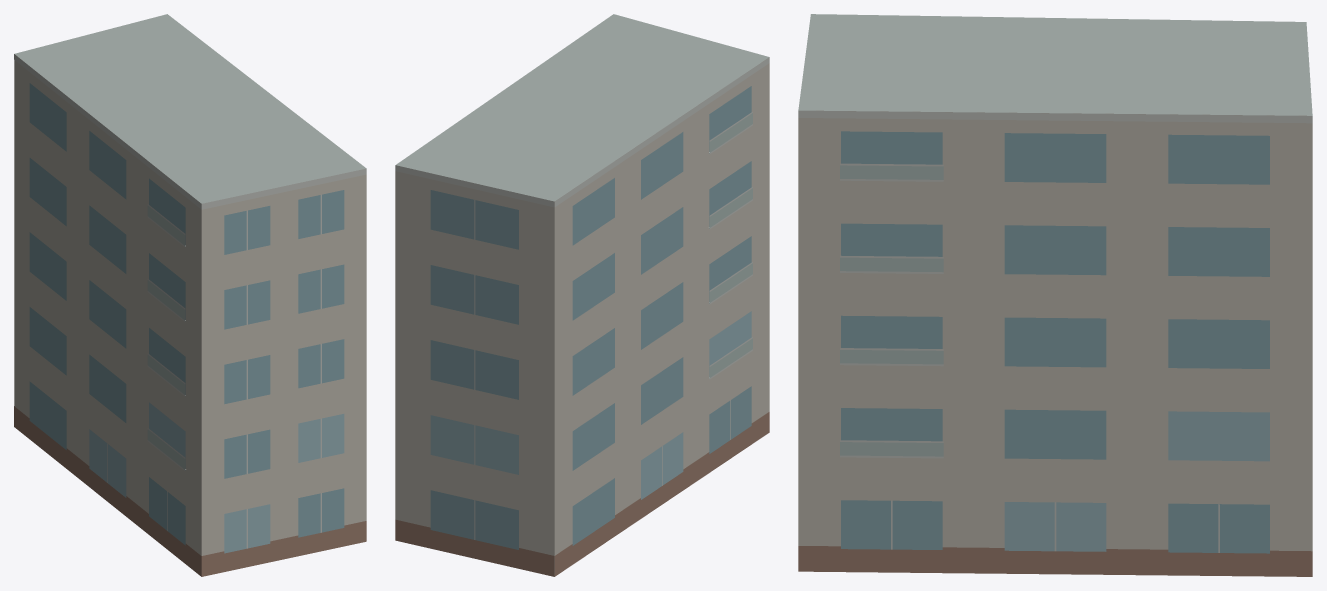
The model's file is survey-upis-32647680.glb.
3 views of the same model, side by side, from view 1: azimuth 30°, elevation 25°; view 2: azimuth 150°, elevation 25°; view 3: azimuth 270°, elevation 25° (orthographic). The views are drawn at different scales.
Visible parts, largest first — view 1: survey-upis-32647680.tmp; view 2: survey-upis-32647680.tmp; view 3: survey-upis-32647680.tmp.
Boxes of the visible parts, x1=… form: survey-upis-32647680.tmp: x1=14, y1=14, x2=366, y2=576; survey-upis-32647680.tmp: x1=395, y1=14, x2=769, y2=576; survey-upis-32647680.tmp: x1=798, y1=14, x2=1312, y2=576.
Bounding box in the file's own units: 7.23 × 15.25 × 15.43.
